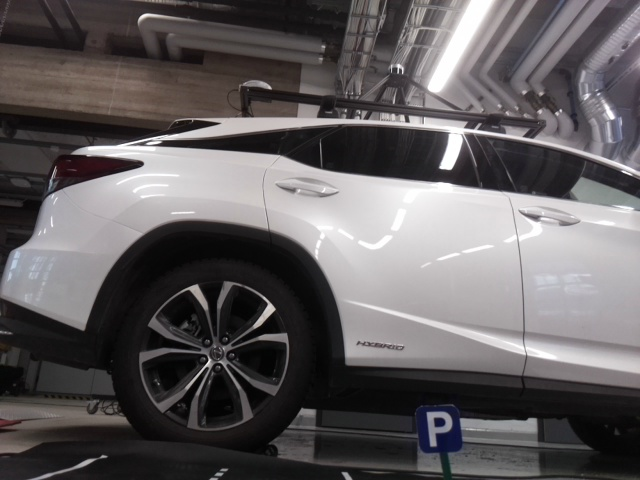Parking: (414, 405, 463, 453)
